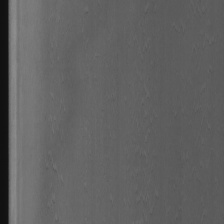silk_spot: (129, 19, 160, 191), (45, 30, 71, 193)
